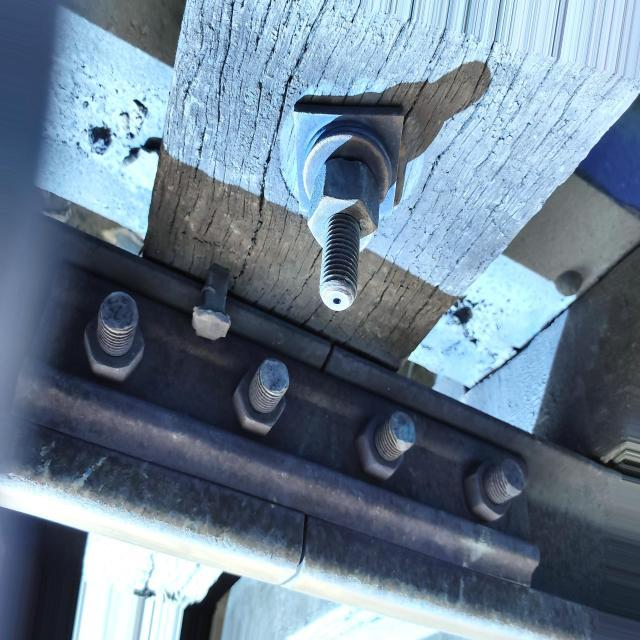Good Fasteners: (294, 97, 405, 310)
Good Joint: (14, 266, 539, 589)
